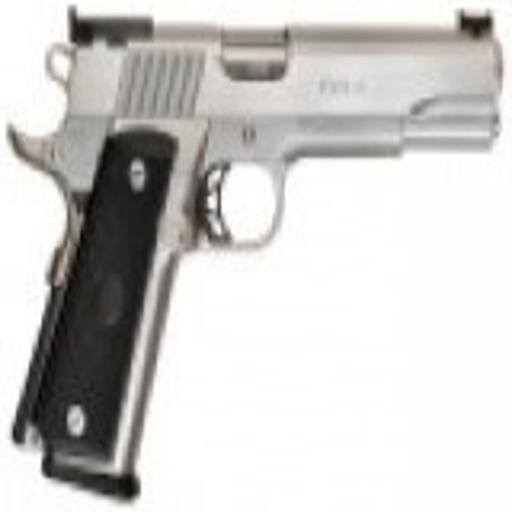Handgun: (2, 3, 501, 502)
